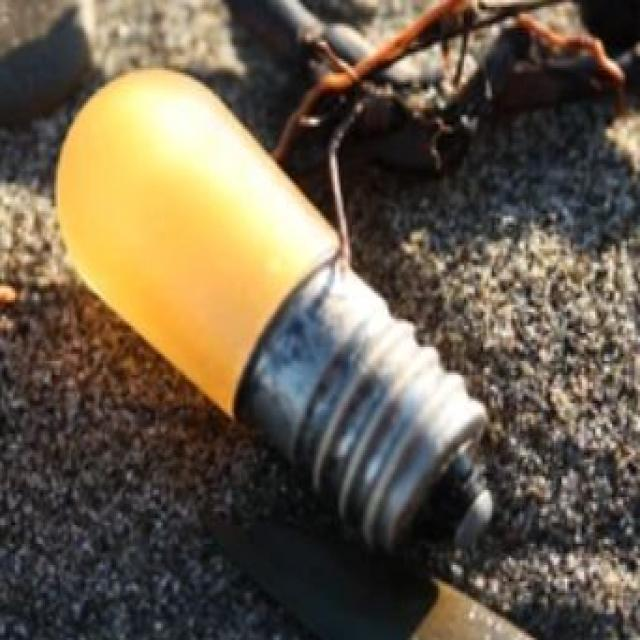electronic: (52, 63, 494, 558)
